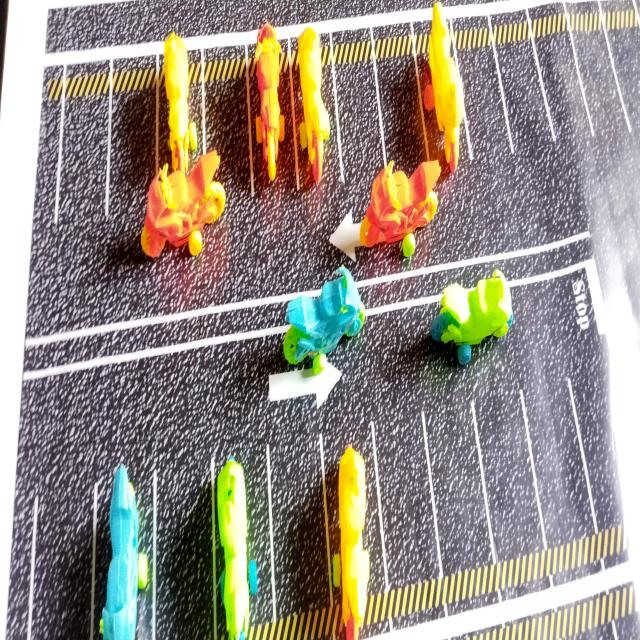bikes: (141, 151, 226, 258), (284, 266, 364, 375), (360, 160, 441, 257), (431, 270, 512, 364)
occupied: (321, 410, 383, 640), (90, 463, 156, 640), (214, 442, 272, 640), (249, 23, 303, 189), (421, 3, 472, 172), (295, 26, 339, 184), (156, 32, 202, 172)
slots: (523, 370, 592, 546), (32, 450, 93, 640), (270, 421, 329, 616), (373, 411, 438, 585), (425, 410, 492, 574), (475, 401, 542, 561), (158, 460, 213, 640), (535, 31, 595, 150), (333, 61, 383, 197), (60, 95, 108, 236), (573, 30, 632, 134), (497, 41, 550, 154), (458, 48, 509, 164), (109, 90, 155, 214), (381, 56, 426, 174), (208, 79, 249, 188)
